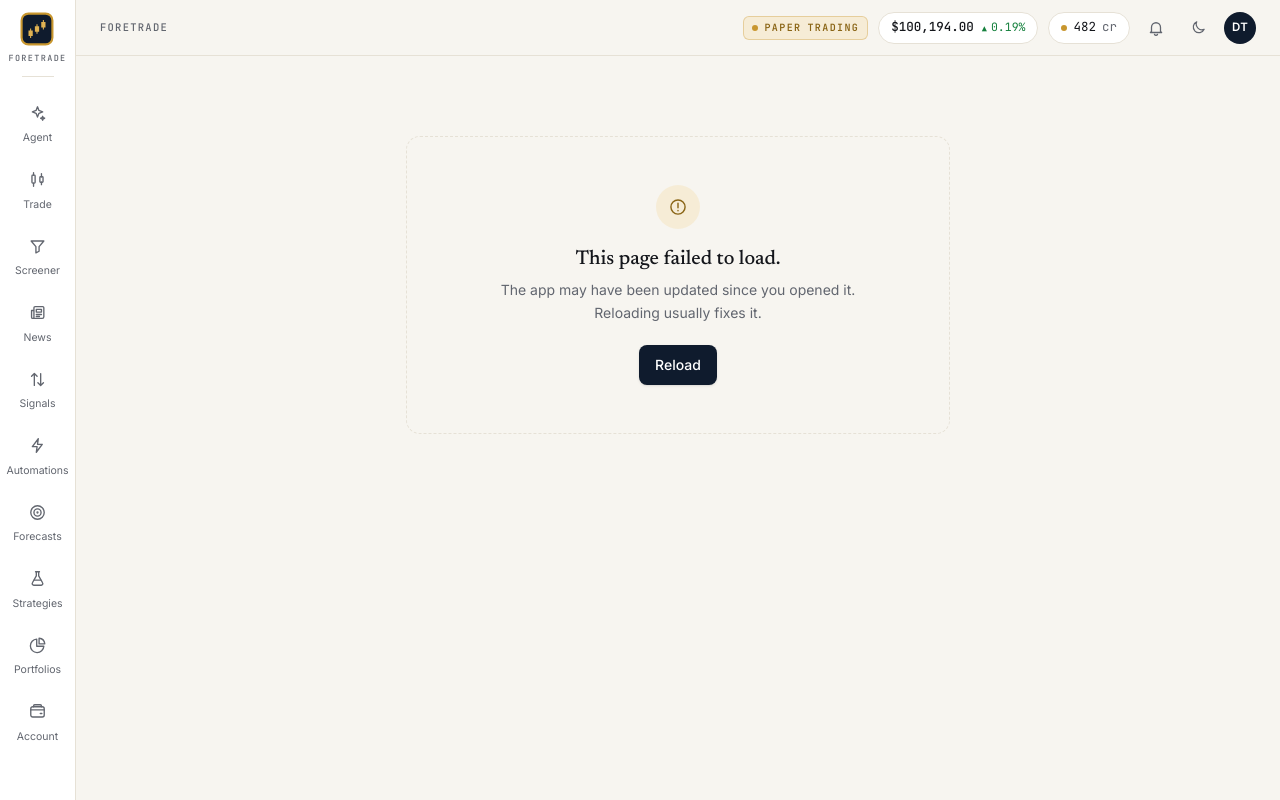
Test: AppShell › keeps the shell up when a page crashes, and recovers on navigation
Expected: the heading "This page failed to load." is shown, [575, 245, 781, 273]
Expected: the button "Reload" is shown, [639, 344, 717, 384]
Click the link "Trade": (38, 190) [23, 170, 52, 210]
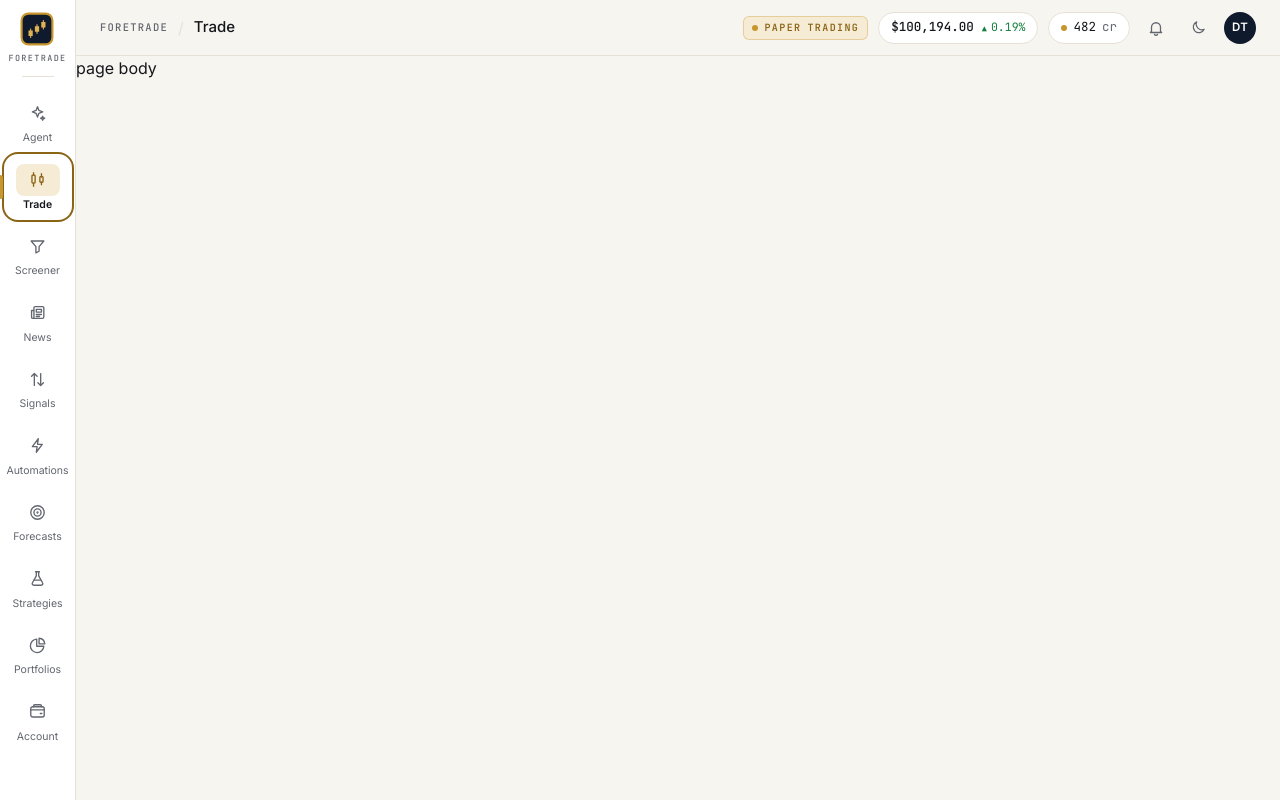
Expected: the text "page body" is shown, [76, 58, 157, 78]
